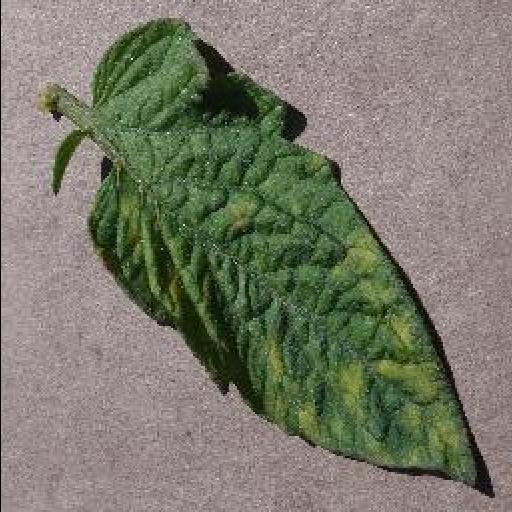disease_tomato: (86, 18, 480, 488)
